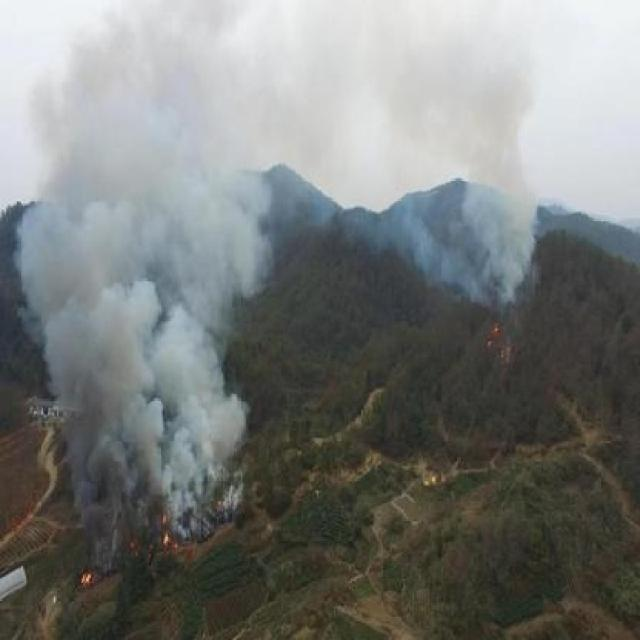Fire: (152, 510, 198, 561), (68, 560, 100, 591), (477, 320, 510, 350)
Smoke: (26, 14, 270, 519), (384, 12, 554, 306)
